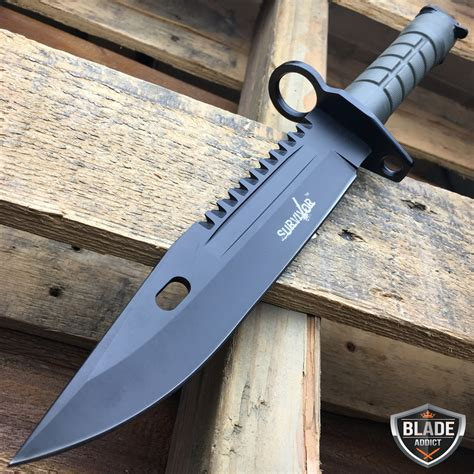knife: (12, 4, 460, 464)
